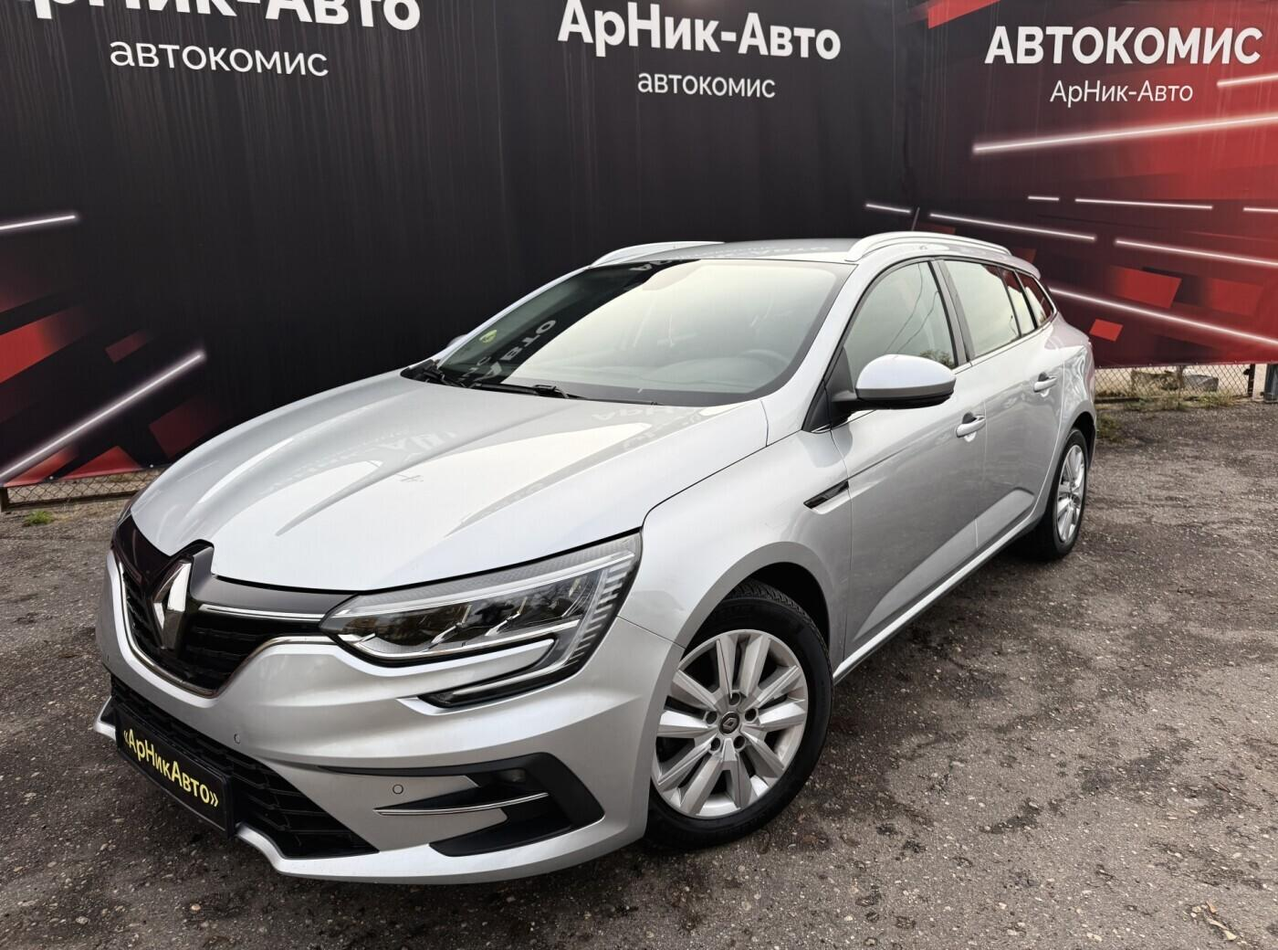Megane_2020: (93, 217, 1101, 913)
